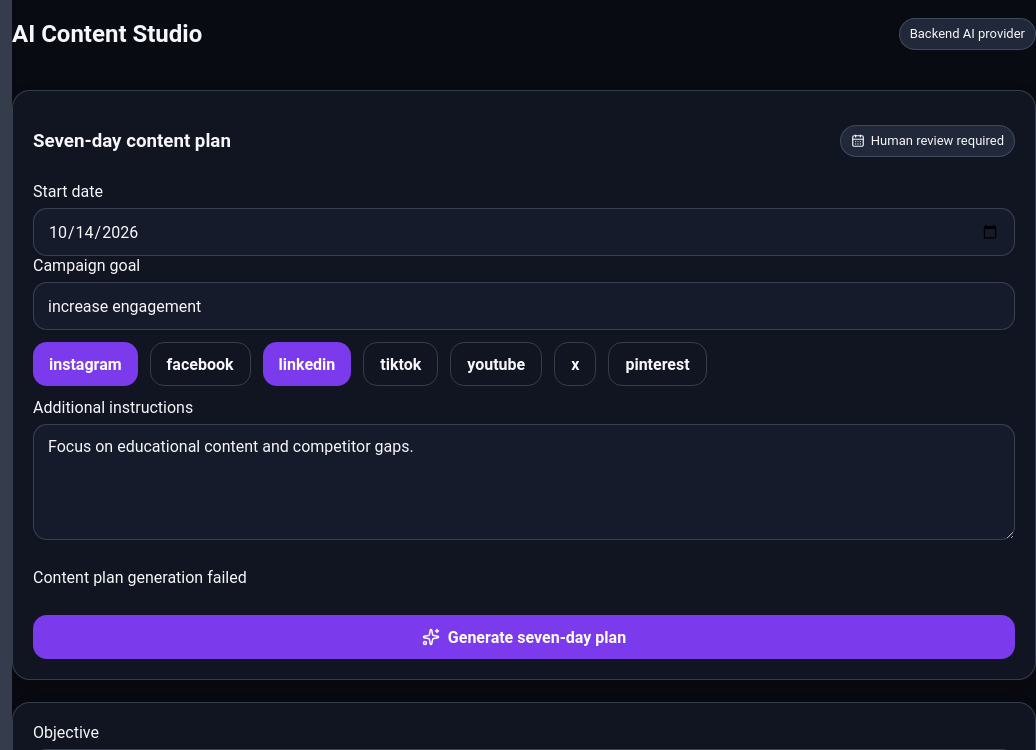
Test: weekly content plan studio › keeps failed jobs without a plan visible and allows another generation
The width and height of the screenshot is (1036, 750).
expect the message reads "Content plan generation failed": met, box [33,568,247,587]
Click the button "Generate seven-day plan" at (524, 637), box [33,615,1015,659]
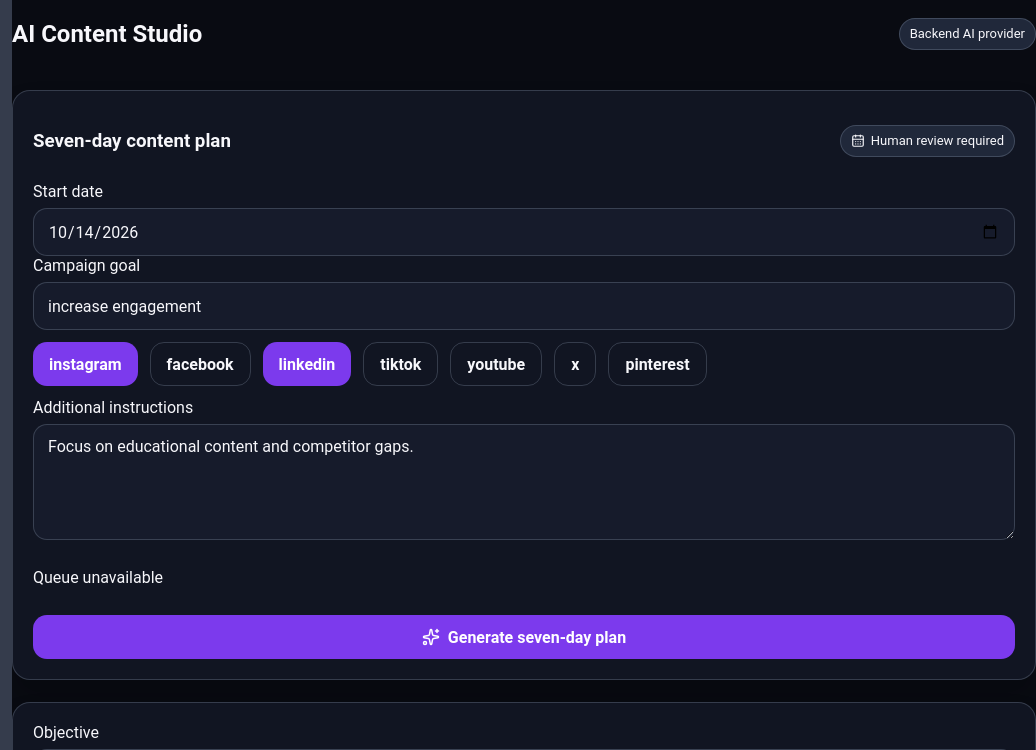
expect the message reads "Queue unavailable": met, box [33,568,163,587]
